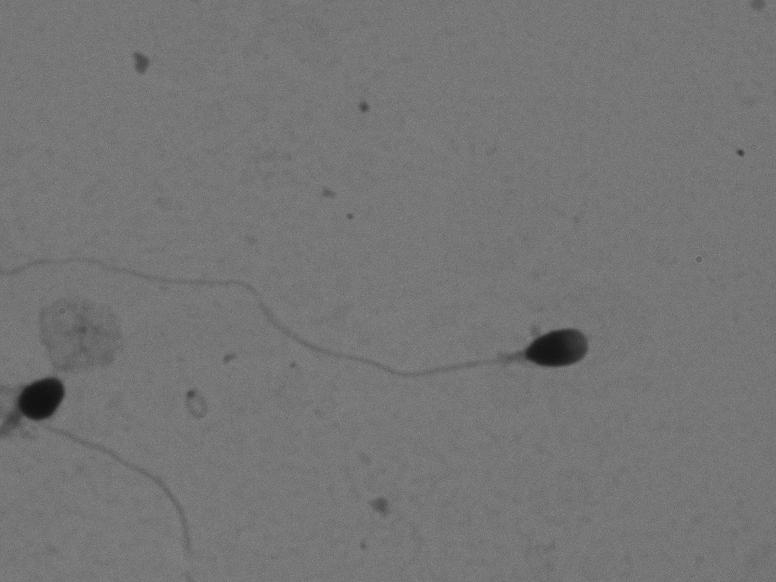Abnormal: (10, 353, 214, 562)
Normal: (15, 206, 611, 382)
